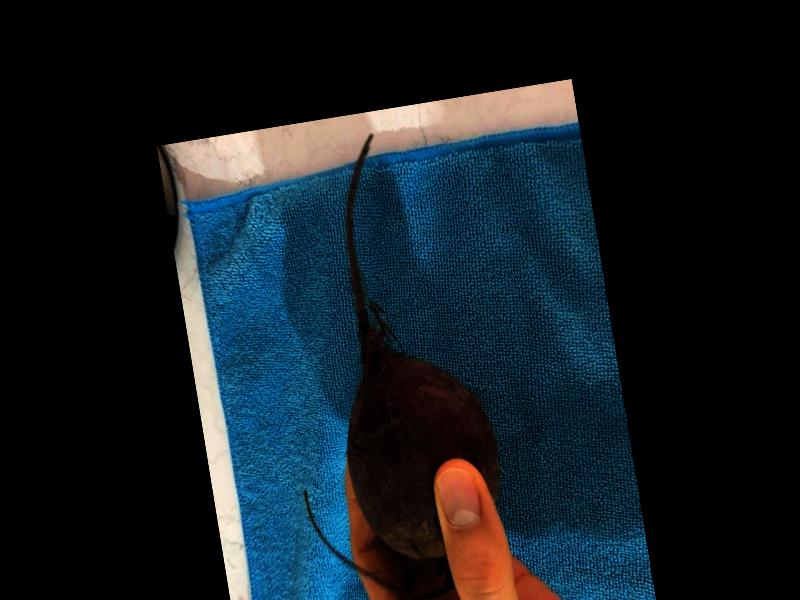Beet: (249, 120, 519, 600)
